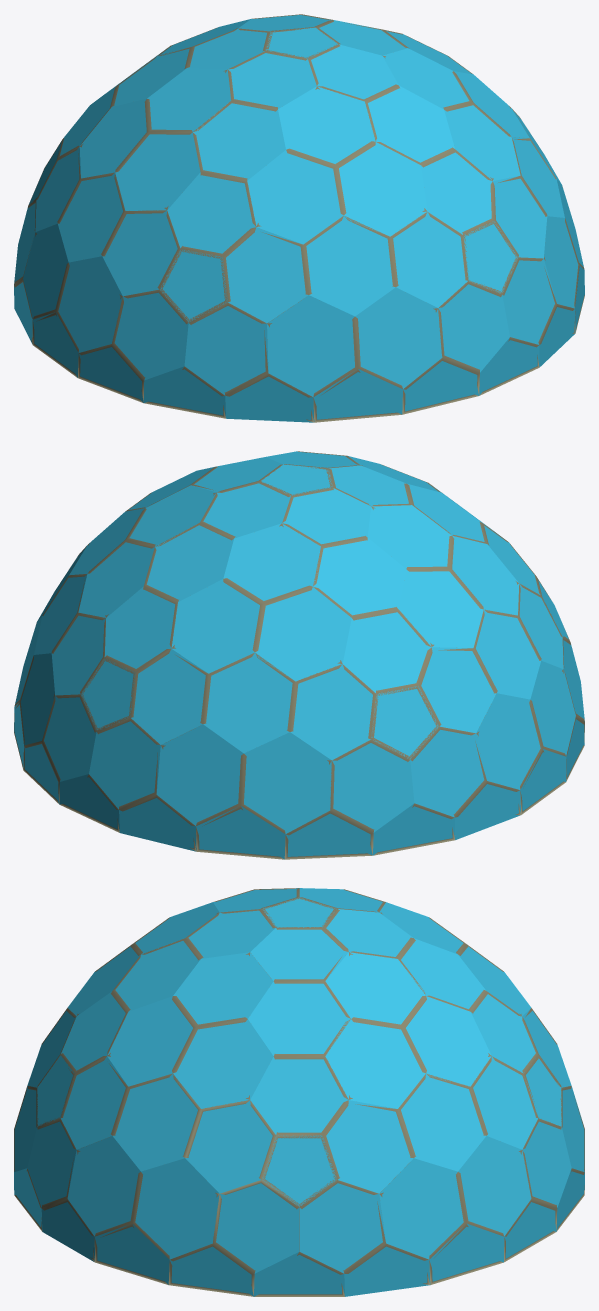
The model's file is source-dome.glb.
3 renders of one model, top to bottom at view 1: azimuth 30°, elevation 25°; view 2: azimuth 150°, elevation 25°; view 3: azimuth 270°, elevation 25°, orthographic.
Visible parts, largest first — view 1: Dome_Panels, Dome_Frame; view 2: Dome_Panels, Dome_Frame; view 3: Dome_Panels, Dome_Frame.
Part boxes in pixels (left/top/right/bottom): Dome_Panels: left=14, top=15, right=584, bottom=422; Dome_Frame: left=14, top=14, right=584, bottom=422; Dome_Panels: left=14, top=451, right=584, bottom=859; Dome_Frame: left=14, top=451, right=584, bottom=859; Dome_Panels: left=14, top=888, right=584, bottom=1296; Dome_Frame: left=14, top=888, right=584, bottom=1296.
Bounding box in the file's own units: 9.69 × 4.91 × 9.69.
